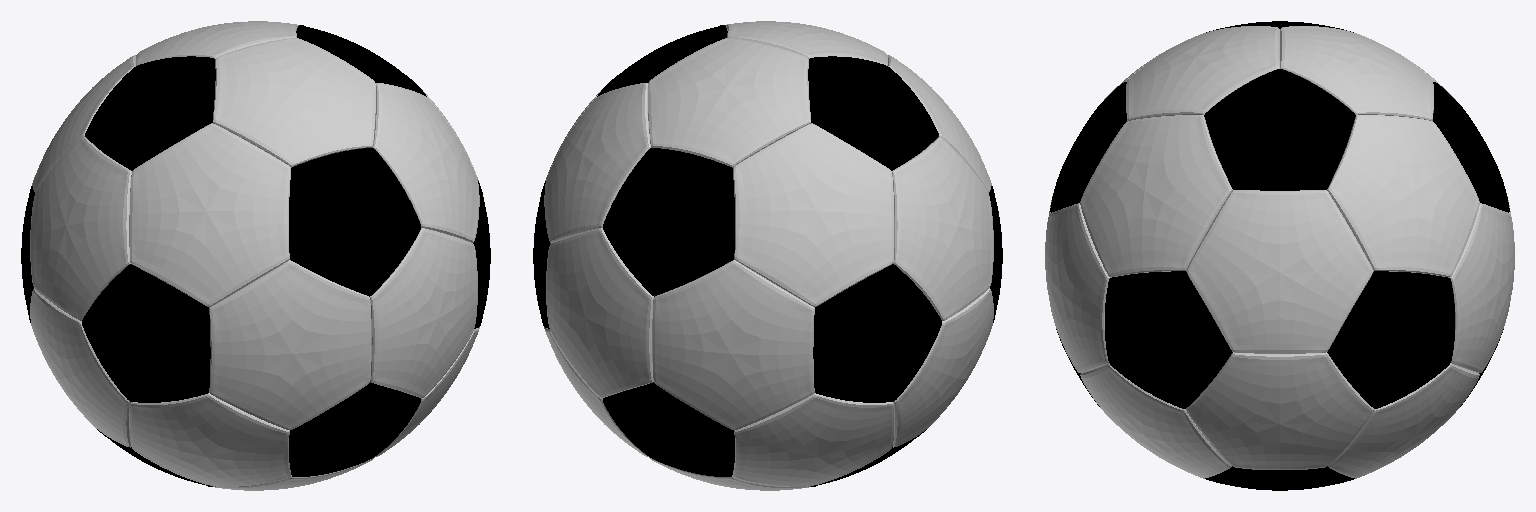
Rendered from Football.obj.
3 views of the same model, side by side, from view 1: azimuth 30°, elevation 25°; view 2: azimuth 150°, elevation 25°; view 3: azimuth 270°, elevation 25° (orthographic).
Visible parts, largest first — view 1: Football; view 2: Football; view 3: Football.
Boxes of the visible parts, <box> form: Football: <box>21,21,490,490</box>; Football: <box>533,21,1002,490</box>; Football: <box>1045,21,1514,490</box>.
Size of the model in its own units: 1.52 by 1.52 by 1.52.